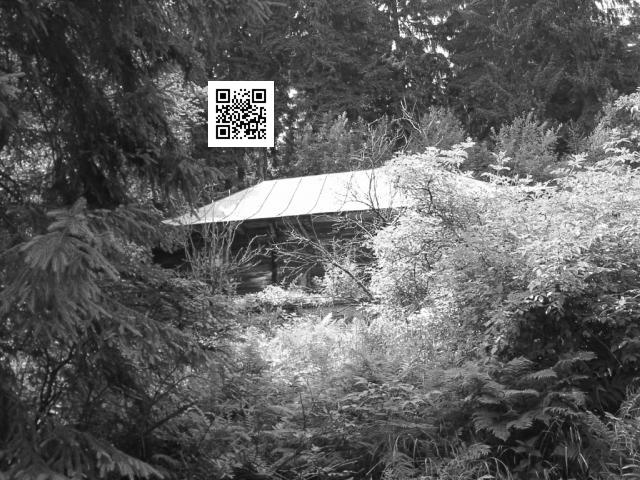qr_code: (208, 81, 274, 146)
